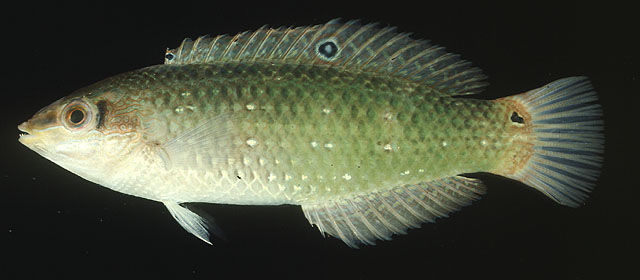fish: (17, 17, 605, 250)
